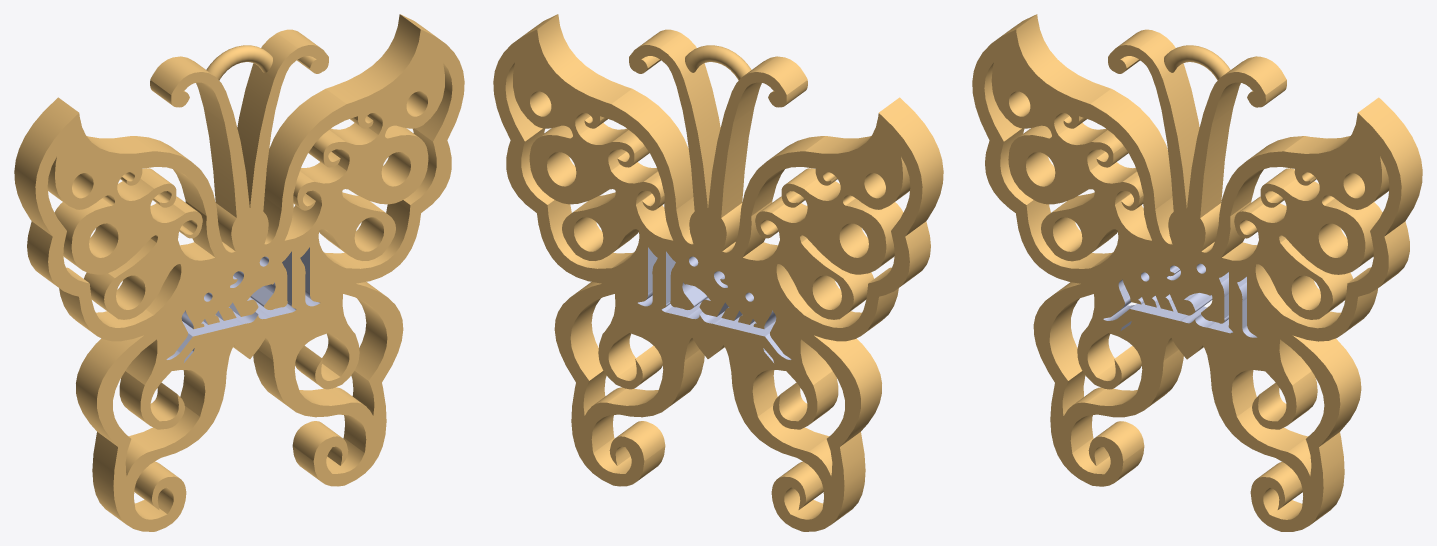
File: borboleta3.glb
The picture shows the model from 3 angles, left to right: view 1: azimuth 30°, elevation 25°; view 2: azimuth 150°, elevation 25°; view 3: azimuth 330°, elevation 25°; orthographic projection.
Parts seen in each view (by area): view 1: borboleta3; view 2: borboleta3; view 3: borboleta3.
Boxes of the visible parts, x1,y1,x2,y2 form: borboleta3: (14,14,464,531); borboleta3: (493,14,943,531); borboleta3: (972,14,1422,531).
Size of the model in its own units: 0.0294 by 0.0297 by 0.0025.
